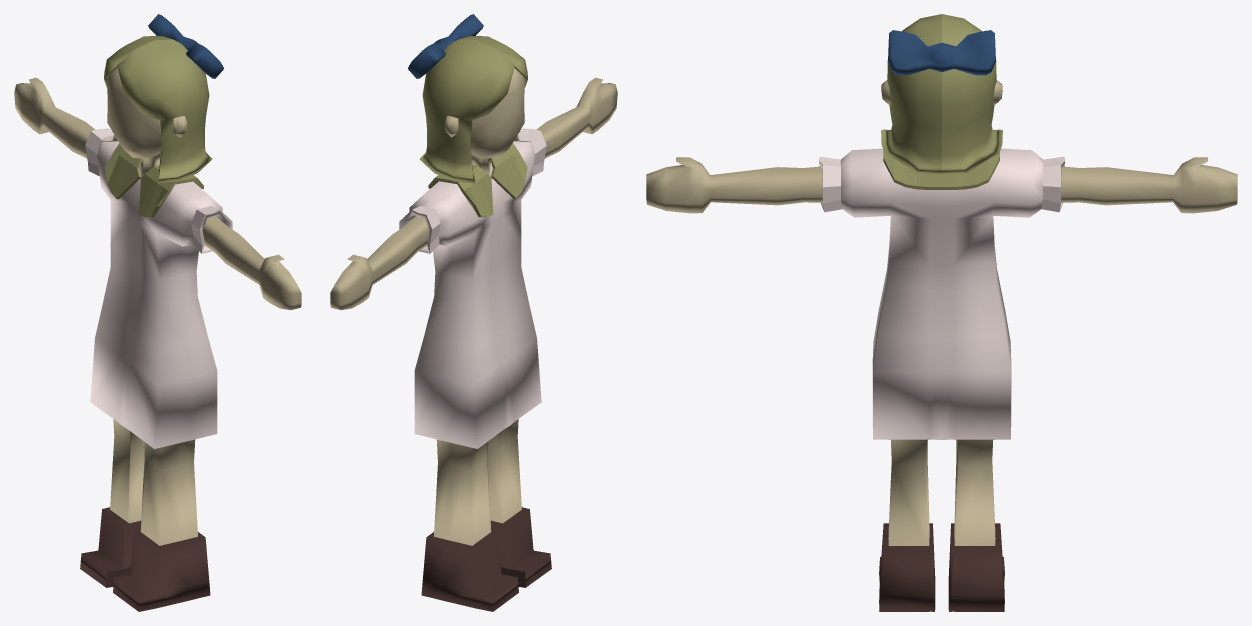
The model's file is WhoAreYou.fbx.
The picture shows the model from 3 angles, left to right: view 1: azimuth 30°, elevation 25°; view 2: azimuth 150°, elevation 25°; view 3: azimuth 270°, elevation 25°; orthographic projection. The views are drawn at different scales.
Visible parts, largest first — view 1: Cube.006; view 2: Cube.006; view 3: Cube.006.
Boxes of the visible parts, x1,y1,x2,y2 form: Cube.006: (14, 14, 301, 611); Cube.006: (330, 14, 617, 611); Cube.006: (646, 14, 1237, 611).
Bounding box in the file's own units: 89.42 × 493 × 454.
